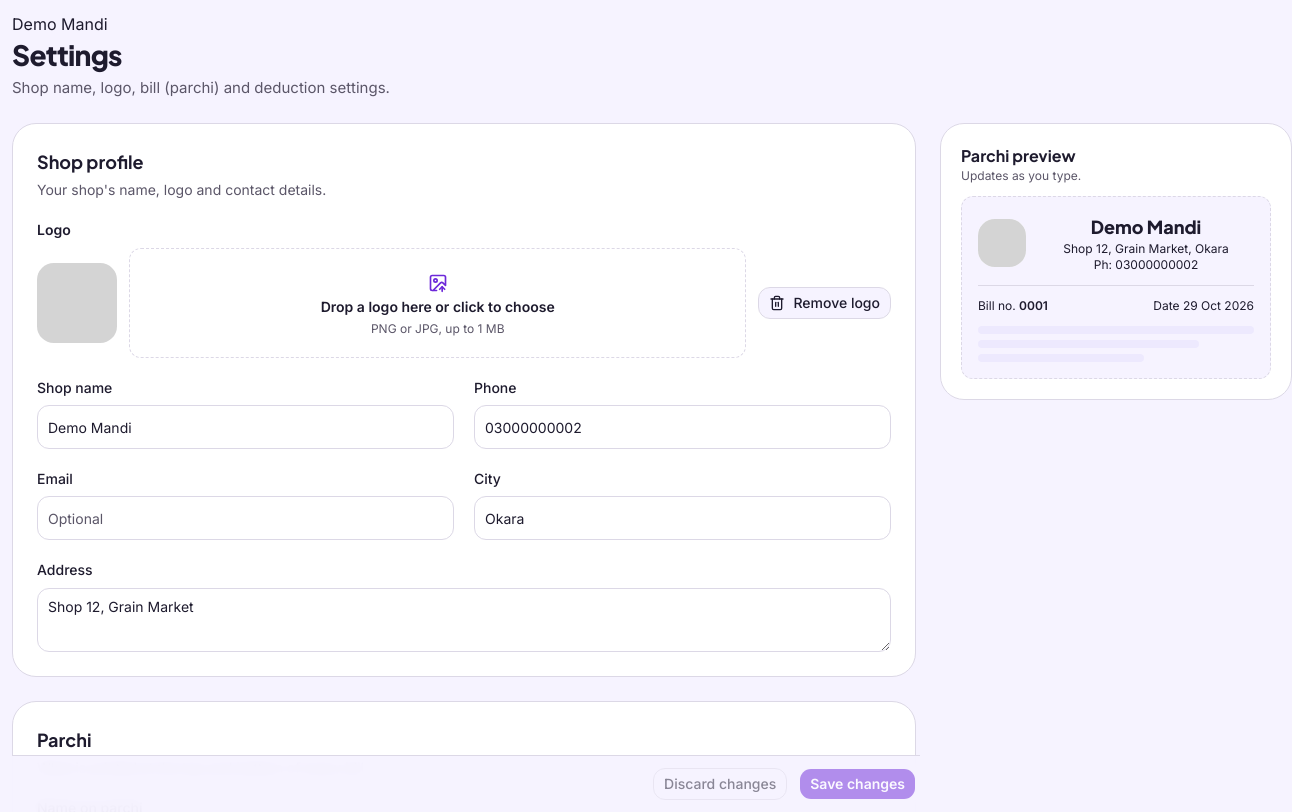
Test: LogoUpload › remove › keeps the logo and shows why when removing fails
The width and height of the screenshot is (1292, 812).
Click the button "Remove logo" at [825, 303], box [758,287,891,319]
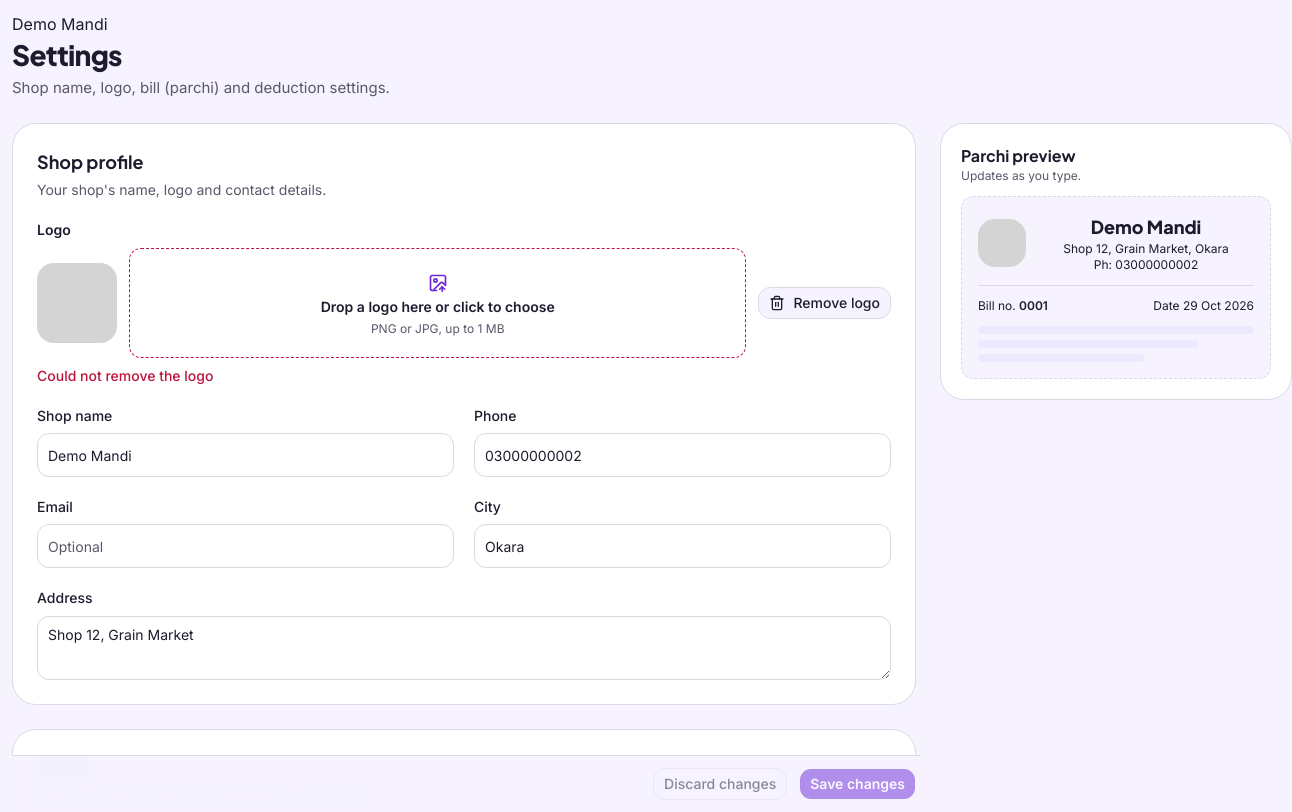
Result: the message reads "Could not remove the logo" at [37,367,213,384]
